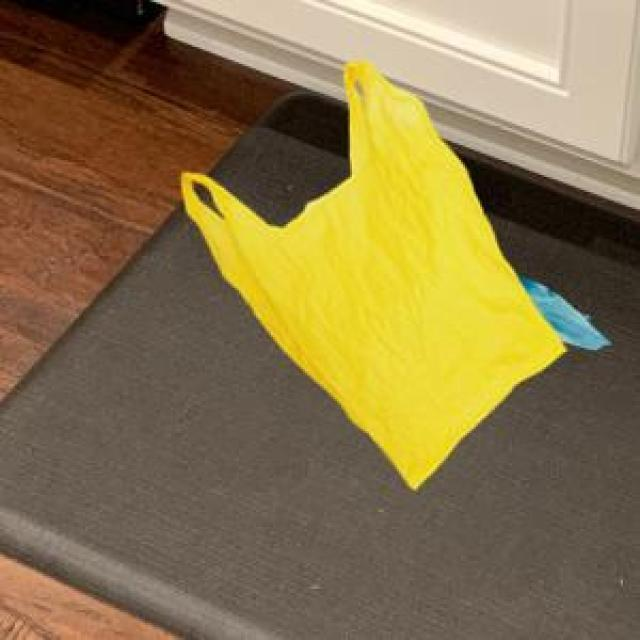waste: (181, 61, 609, 488)
